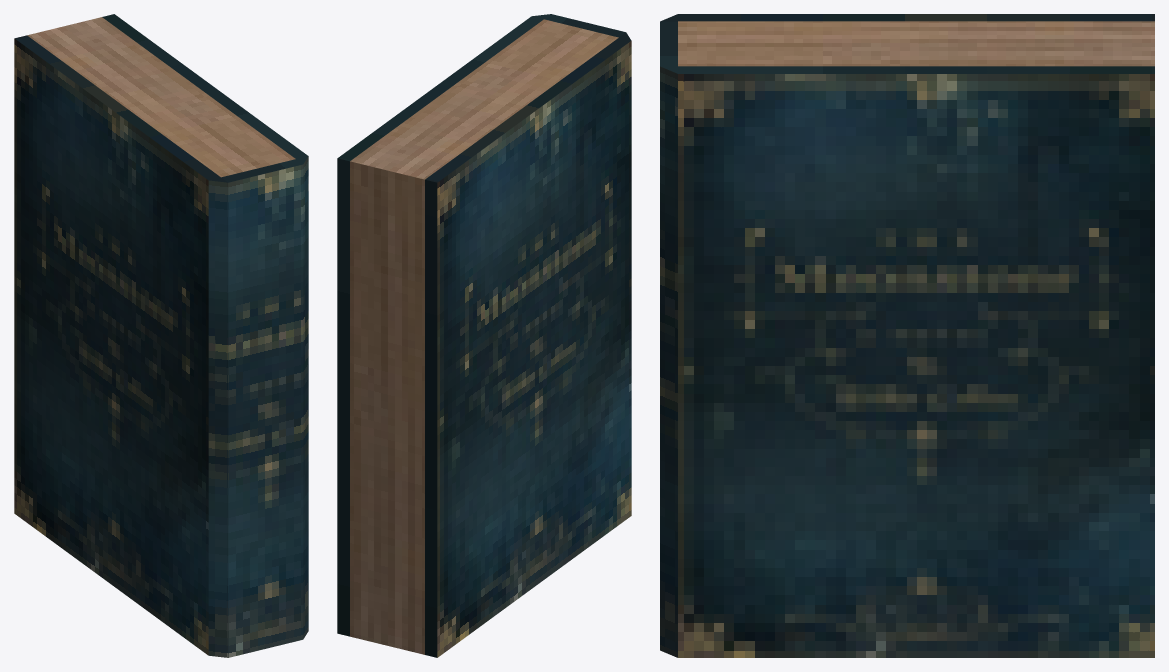
File: book2.glb
3 renders of one model, left to right at view 1: azimuth 30°, elevation 25°; view 2: azimuth 150°, elevation 25°; view 3: azimuth 270°, elevation 25°, orthographic. The views are drawn at different scales.
Visible parts, largest first — view 1: book2; view 2: book2; view 3: book2.
Boxes of the visible parts, <box> form: book2: <box>14,14,308,657</box>; book2: <box>337,14,631,657</box>; book2: <box>660,14,1154,657</box>.
Bounding box in the file's own units: 0.0884 × 0.4017 × 0.3084.
Materials: 1 (1 with a texture image).
